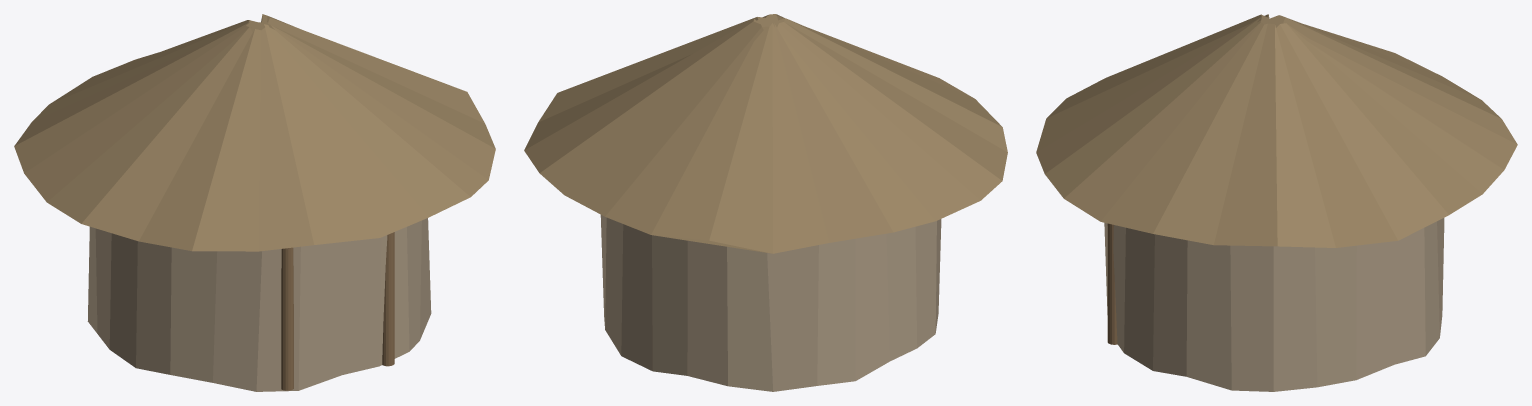
Rendered from hut.fbx.
3 renders of one model, left to right at view 1: azimuth 30°, elevation 25°; view 2: azimuth 150°, elevation 25°; view 3: azimuth 270°, elevation 25°, orthographic.
Visible parts, largest first — view 1: HutRoof, HutWall, Post1, Post2; view 2: HutRoof, HutWall; view 3: HutRoof, HutWall, Post2.
Boxes of the visible parts, <box> form: HutRoof: <box>14,14,495,251</box>; HutWall: <box>87,218,431,391</box>; Post1: <box>281,247,293,390</box>; Post2: <box>382,232,394,366</box>; HutRoof: <box>524,14,1007,253</box>; HutWall: <box>600,215,941,391</box>; HutRoof: <box>1036,14,1517,247</box>; HutWall: <box>1104,218,1444,391</box>; Post2: <box>1107,223,1117,344</box>.
Size of the model in its own units: 631 by 431 by 618.
